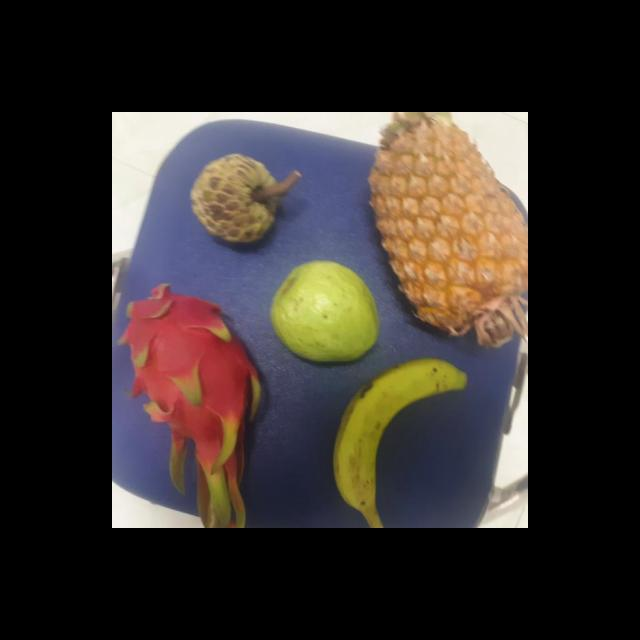Sakya fruit: (187, 154, 282, 246)
banana: (328, 359, 467, 512)
guava: (264, 260, 378, 363)
pineapple: (368, 123, 528, 348)
pitaya: (116, 285, 266, 483)
